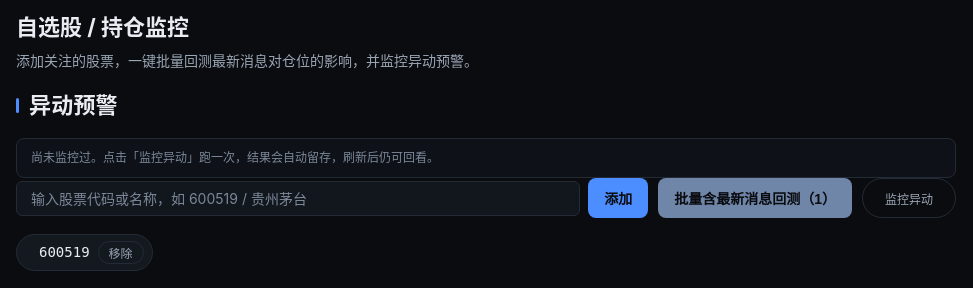
Scenario: WatchlistPage 添加与移除 › 输入 6 位代码点「添加」：按代码直接添加，列表出现该代码
Expected: the text "600519" is shown, [39,242,90,263]
In the dropdown named "自选股搜索": (298, 198) [16,180,580,216], type "000858"
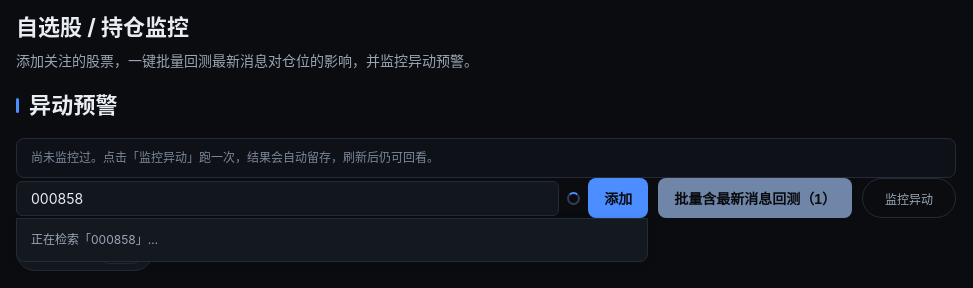
Click the button "添加": (618, 198) [588,178,648,218]
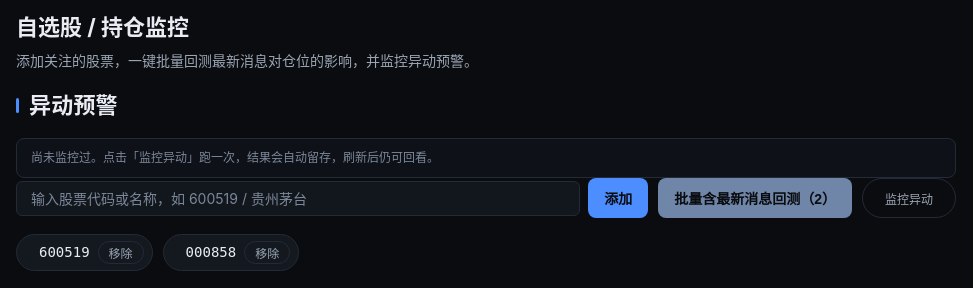
Expected: the text "000858" is shown, [186,242,236,263]
Expected: the button with aria-label "移除 000858" is shown, [244,241,290,264]
